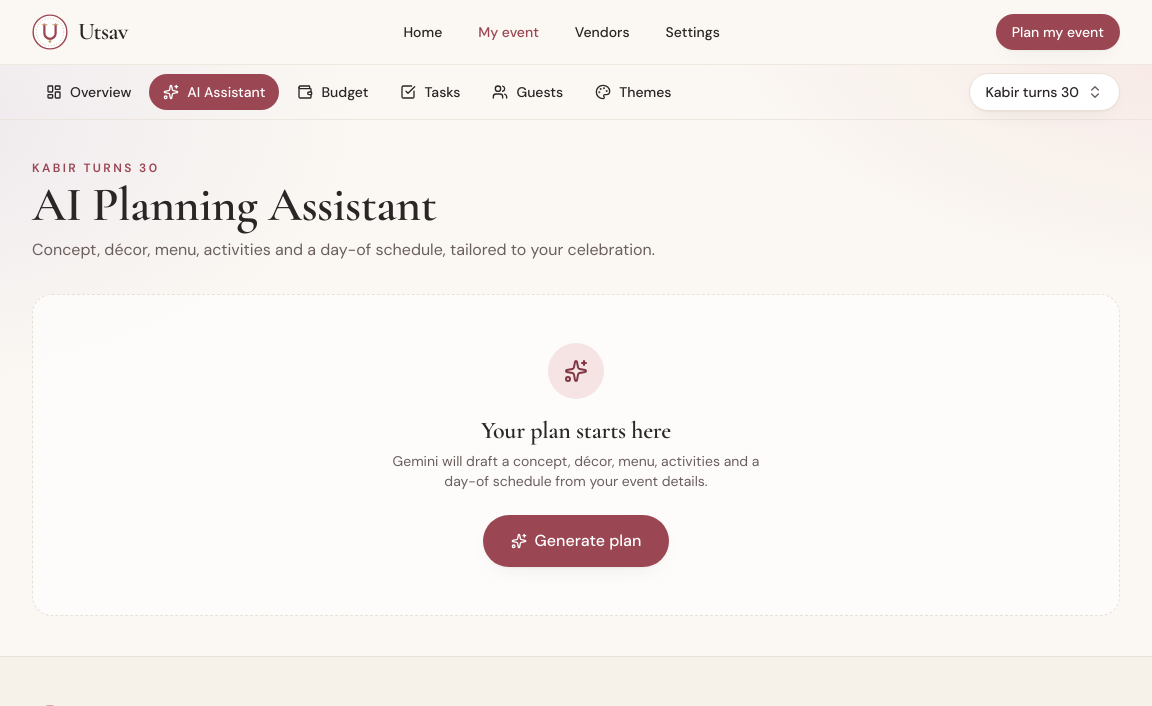
Test case: AssistantPage › refines the plan and keeps the previous version in history
Click the button "Generate plan". click: (576, 541)
box: top-left (483, 515), bottom-right (670, 567)
(page scrolled)
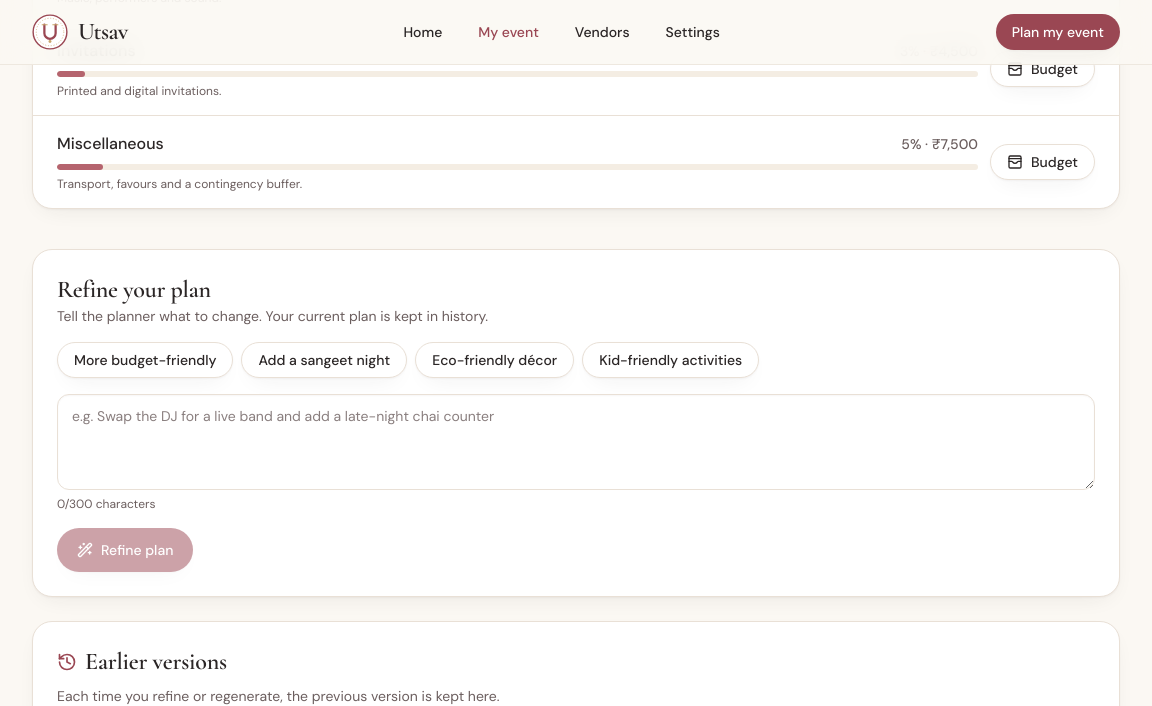
Click the button "Add a sangeet night". click: (324, 360)
box: top-left (242, 342), bottom-right (407, 378)
(page scrolled)
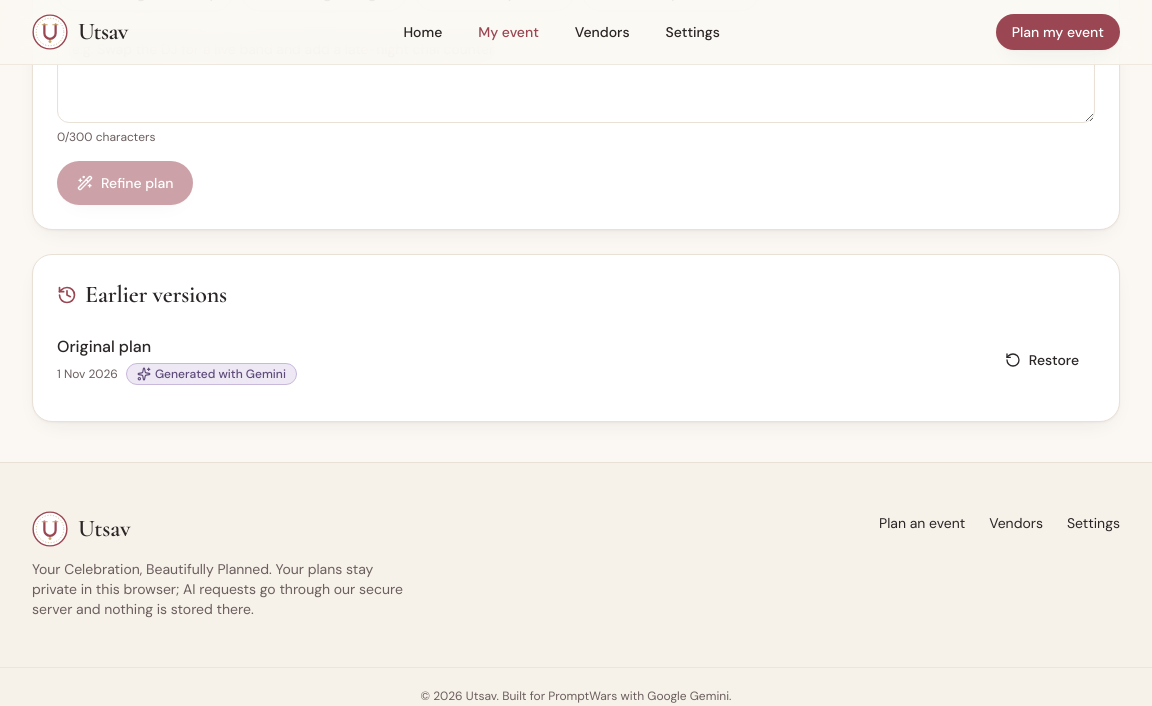
Click the button with aria-label "restore version: original plan". click: (1042, 360)
box: top-left (989, 342), bottom-right (1095, 378)
(page scrolled)
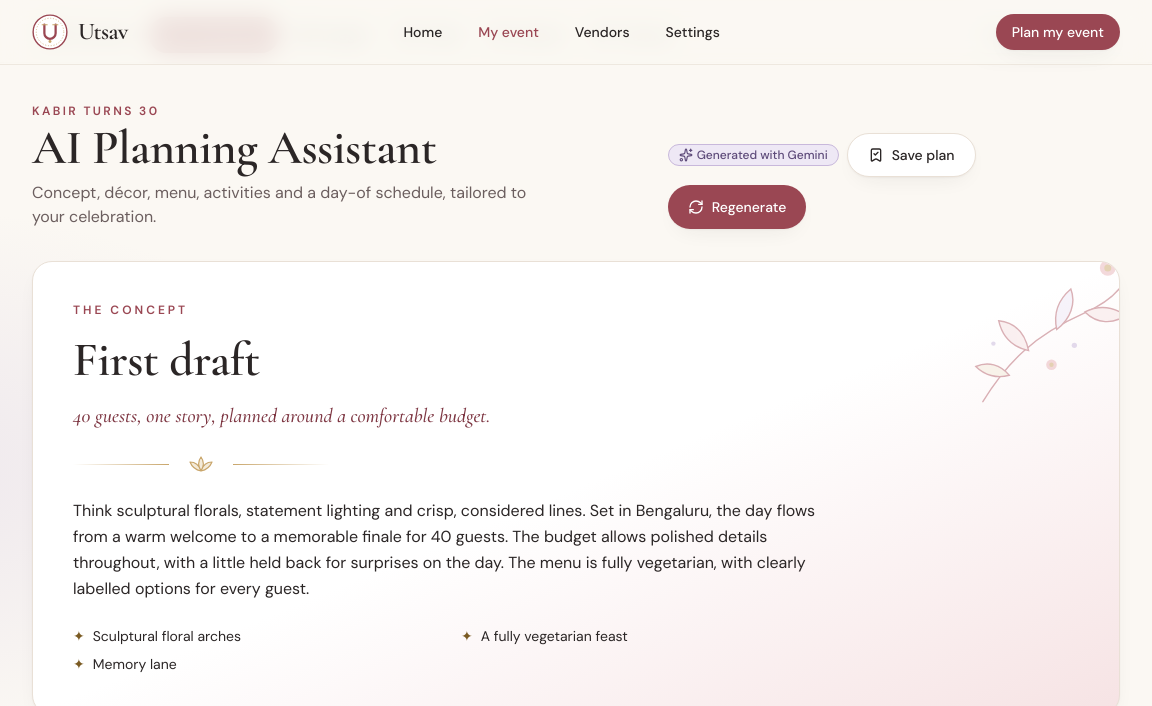
Expected: the heading "First draft" is shown, top-left (73, 331), bottom-right (260, 389)
